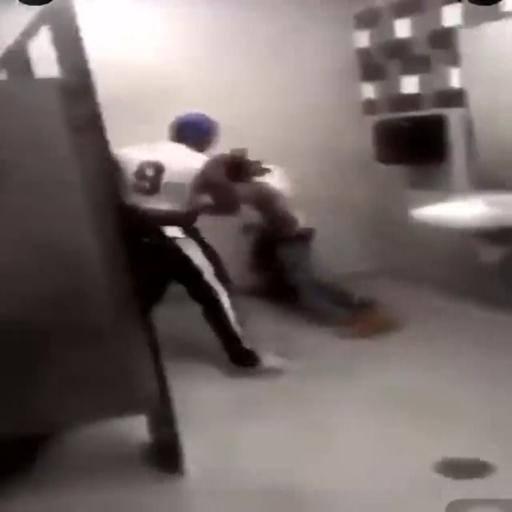violencia: (106, 96, 410, 380)
